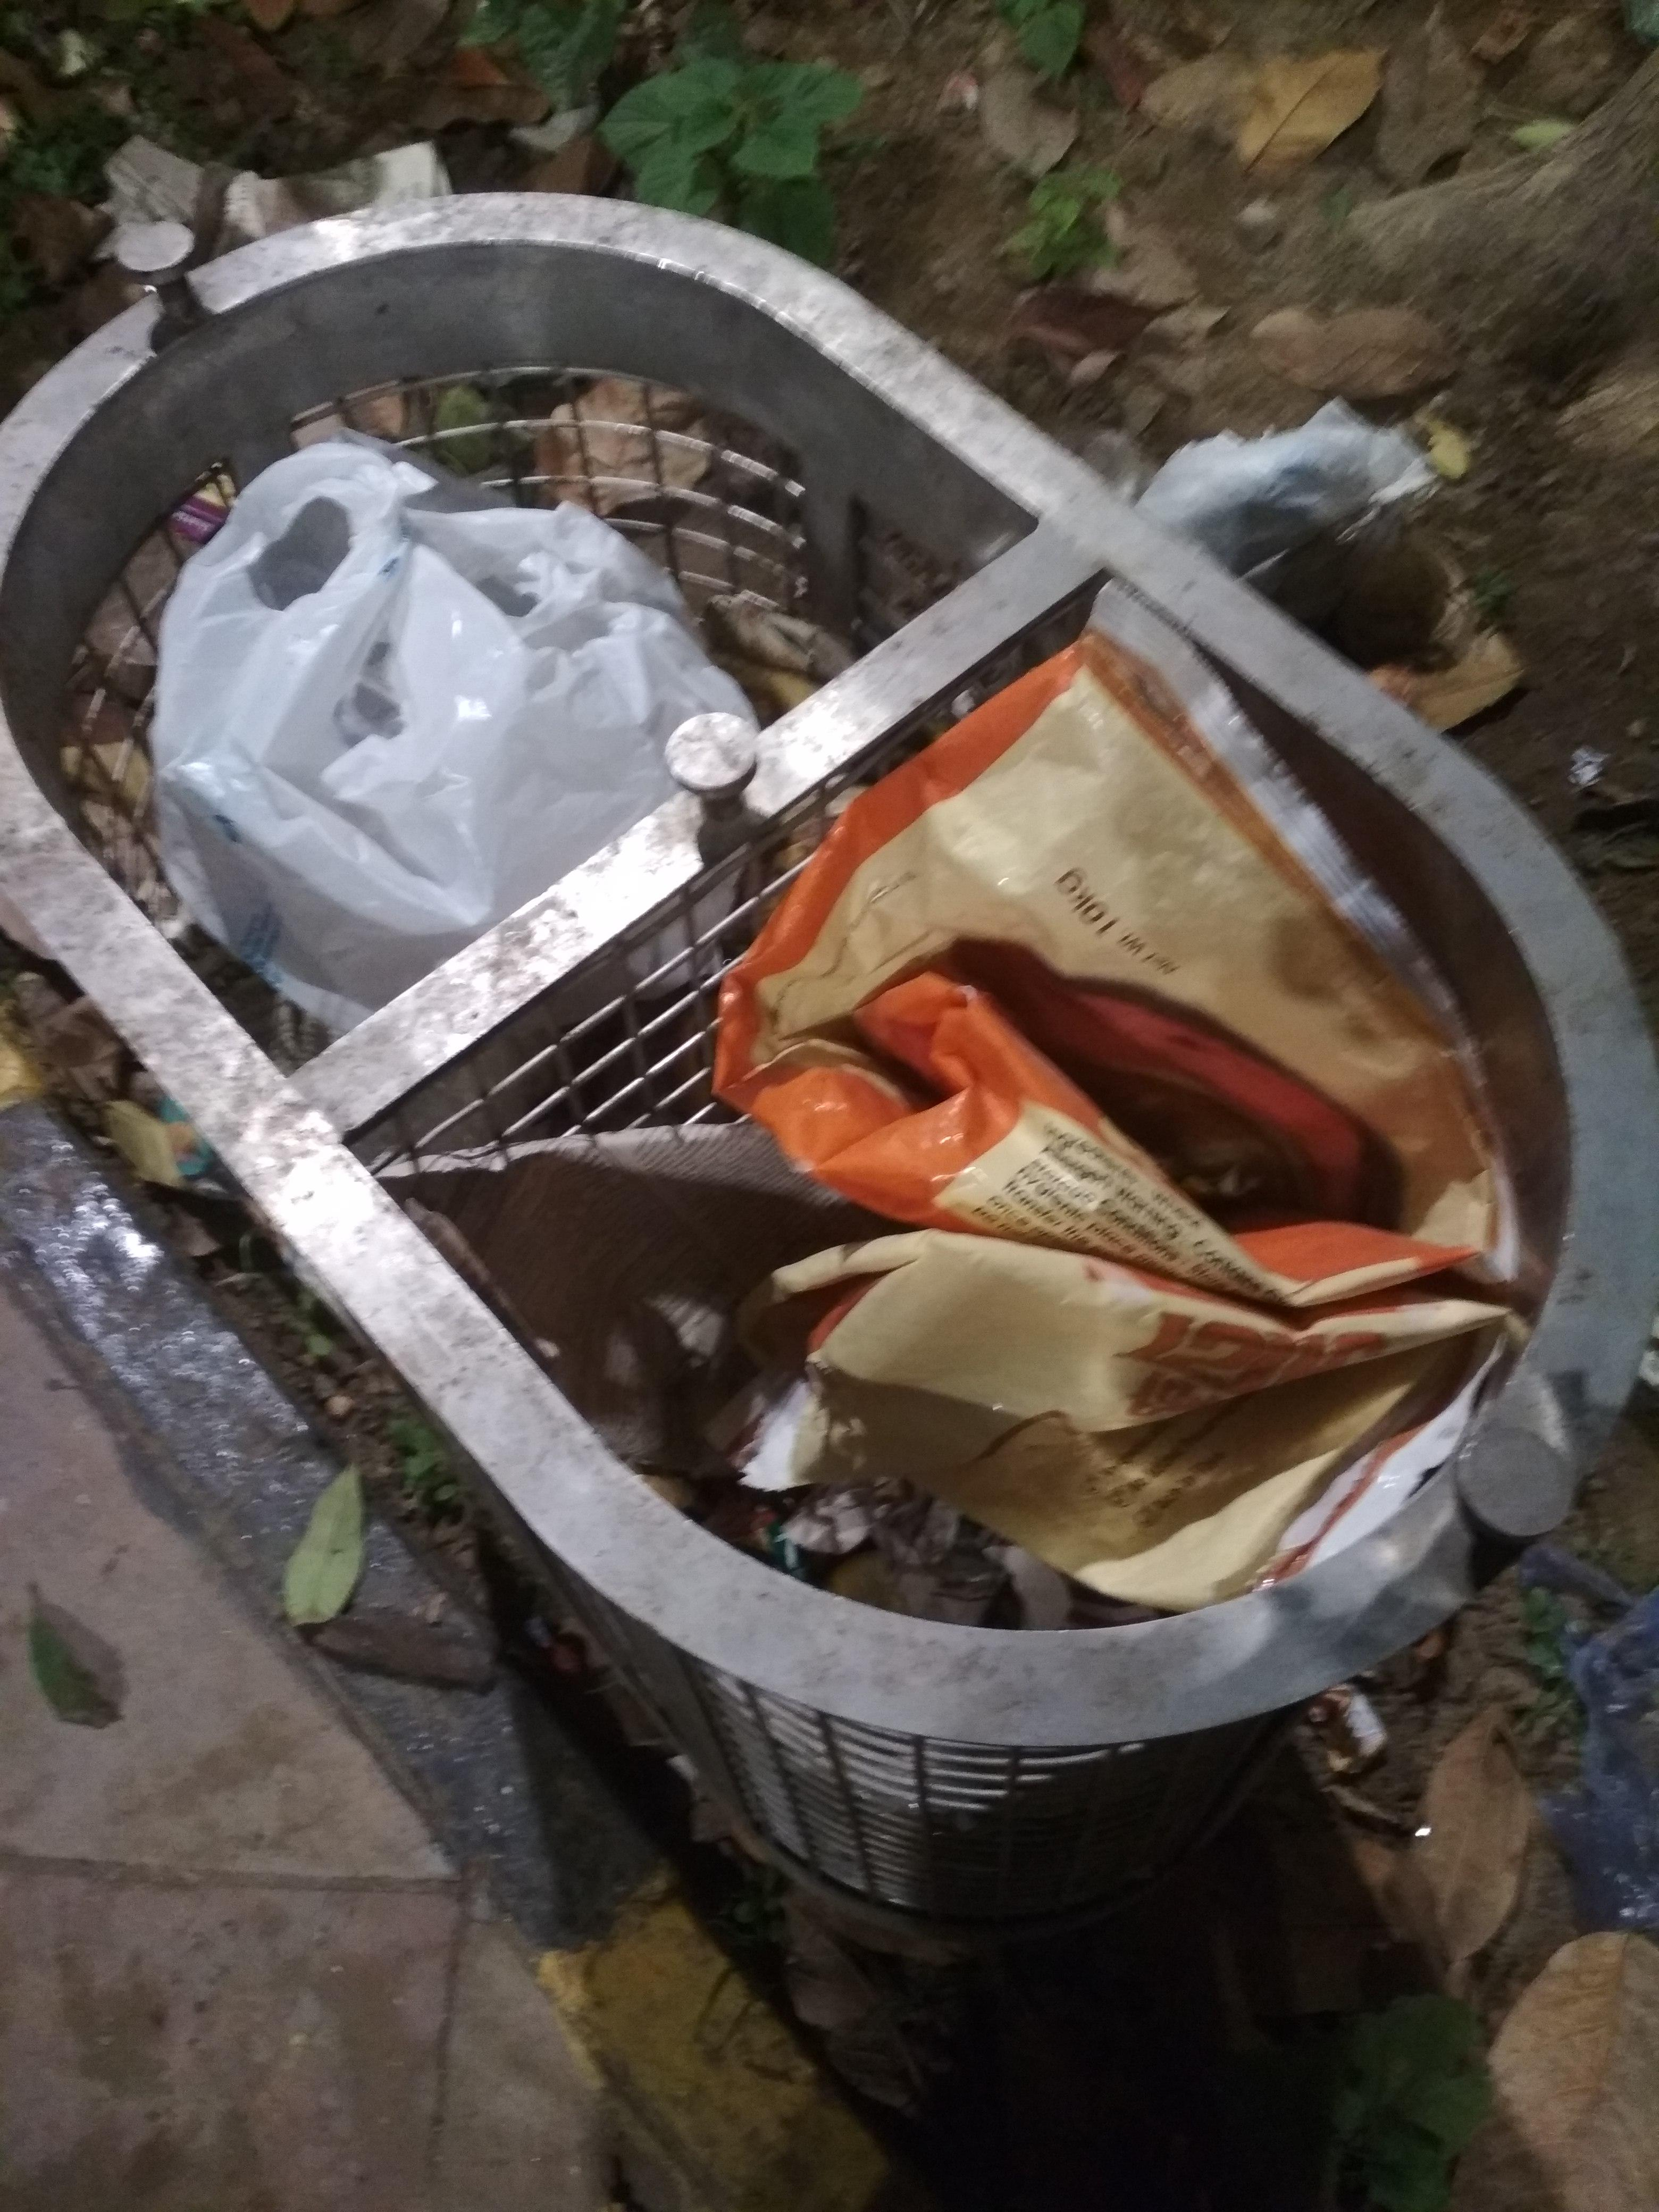trash: (0, 136, 1659, 1972)
